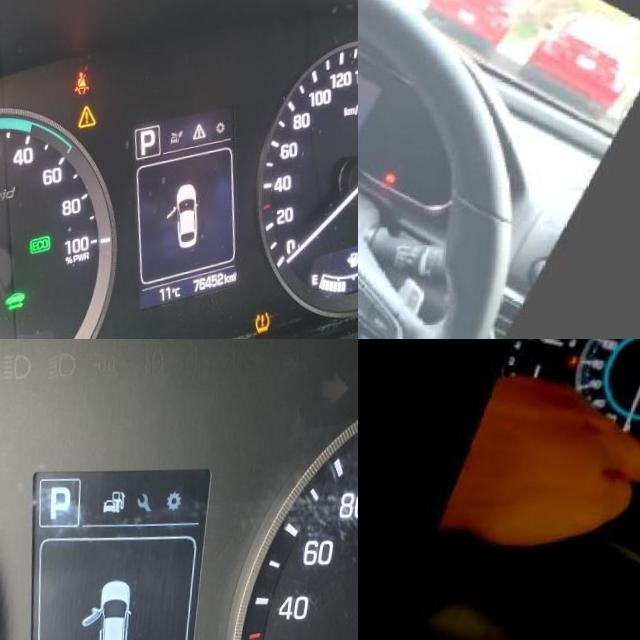Central Warning lamp: (79, 106, 99, 131)
